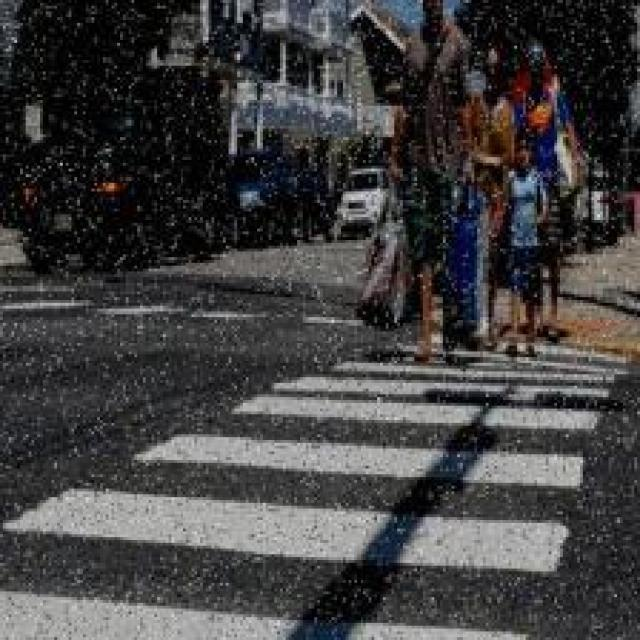crosswalk: (5, 309, 632, 640)
